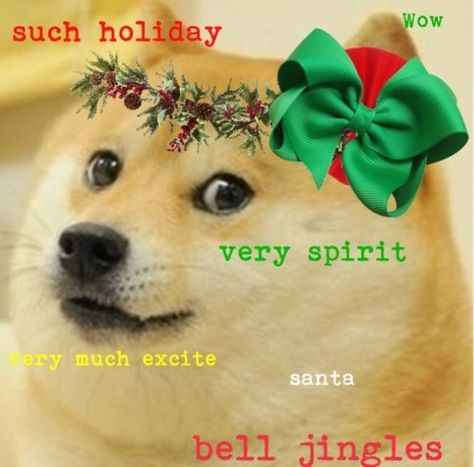doge: (18, 131, 305, 440)
